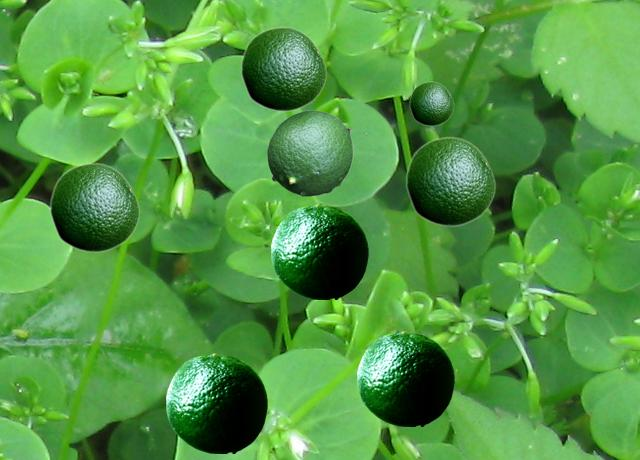calamansi: (166, 353, 266, 452), (271, 204, 367, 298), (357, 331, 453, 425), (405, 136, 495, 226), (49, 162, 139, 252), (240, 26, 326, 111), (267, 110, 352, 195), (409, 81, 453, 125)
